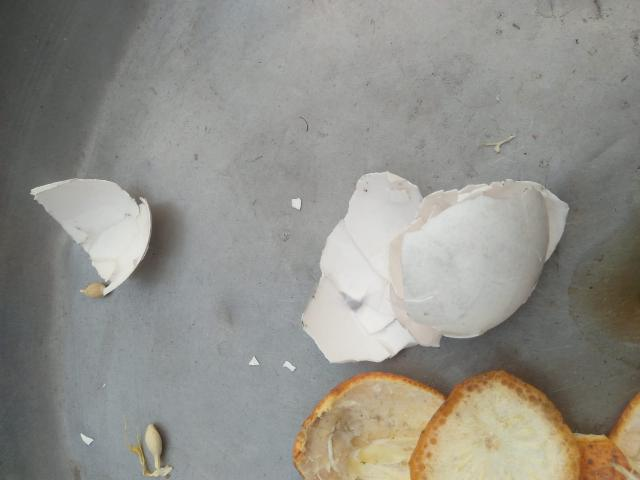Roto: (388, 178, 566, 340), (300, 170, 440, 364), (29, 176, 152, 297)
